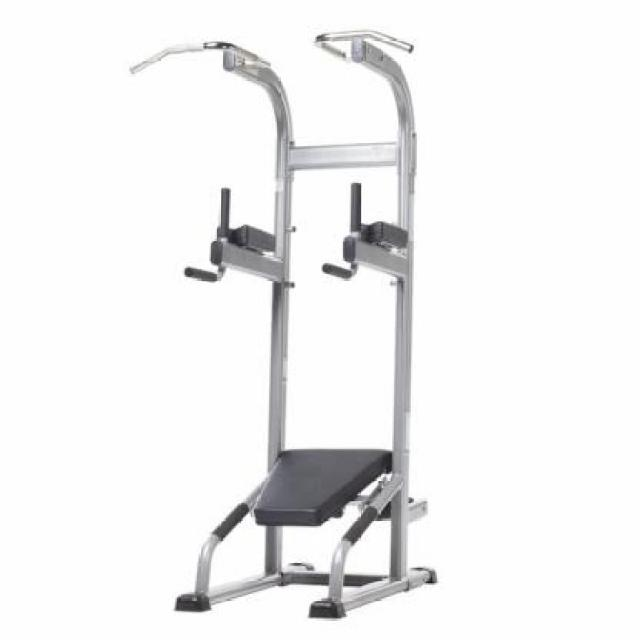chinning dipping: (129, 27, 440, 618)
